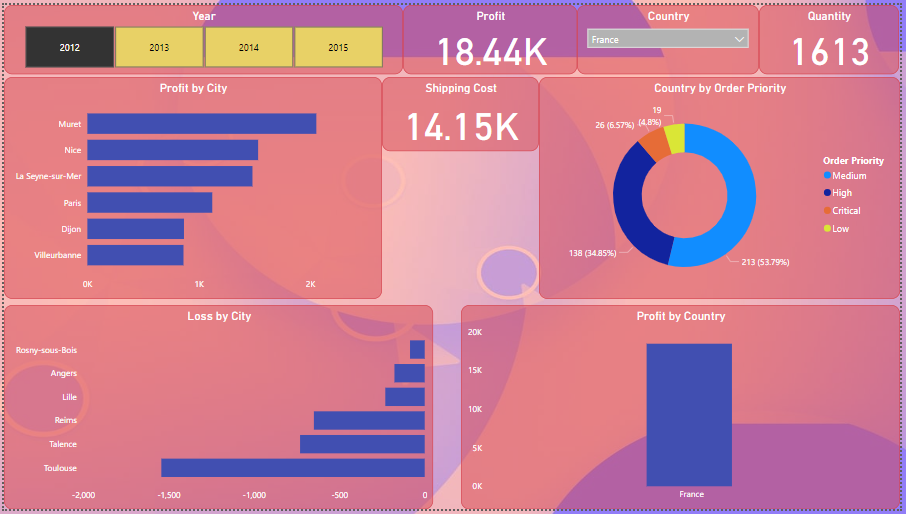

Layout of this report page (visuals, bound fields, positions):
{"tool":"powerbi","page":{"name":"Dashboard 2","canvas":[1280,720],"ordinal":1},"visuals":[{"type":"slicer","title":"Year","fields":{"Values":["Orders.Year"]},"box":[0,0,569.6,99.3],"z":0},{"type":"barChart","title":"Profit by City","fields":{"Category":["Orders.City"],"Y":["Sum(Orders.Profit)"]},"box":[0,103.2,539.5,316.6],"z":1000},{"type":"barChart","title":"Loss by City","fields":{"Category":["Orders.City"],"Y":["Sum(Orders.Profit)"]},"box":[0,427.9,613.4,292.1],"z":2000},{"type":"donutChart","title":"Country by Order Priority","fields":{"Category":["Orders.Order Priority"],"Y":["CountNonNull(Orders.Country)"]},"box":[763.9,103.2,516.1,316.6],"z":3000},{"type":"columnChart","title":"Profit by Country","fields":{"Category":["Orders.Country"],"Y":["Sum(Orders.Profit)"]},"box":[652.4,428.3,627.2,291.7],"z":4000},{"type":"card","title":"Profit","fields":{"Values":["Sum(Orders.Profit)"]},"box":[569.8,0,249.1,99.1],"z":5000},{"type":"slicer","title":"Country","fields":{"Values":["Orders.Country"]},"box":[818.9,0,260.1,99.1],"z":6000},{"type":"card","title":"Quantity","fields":{"Values":["Sum(Orders.Quantity)"]},"box":[1079.1,0,199.6,99.1],"z":7000},{"type":"card","title":"Shipping Cost","fields":{"Values":["Sum(Orders.Shipping Cost)"]},"box":[539.5,103.2,224.3,106],"z":8000}]}

Visuals, with their boxes in screenshot pixels (x1, y1, x2, y2), scaled from the page's 1280x720 canvas onto the 906x514 screenshot:
"Year" slicer: <region>0, 0, 403, 71</region>
"Profit by City" barChart: <region>0, 74, 382, 300</region>
"Loss by City" barChart: <region>0, 305, 434, 513</region>
"Country by Order Priority" donutChart: <region>541, 74, 905, 300</region>
"Profit by Country" columnChart: <region>462, 306, 905, 513</region>
"Profit" card: <region>403, 0, 580, 71</region>
"Country" slicer: <region>580, 0, 764, 71</region>
"Quantity" card: <region>764, 0, 905, 71</region>
"Shipping Cost" card: <region>382, 74, 541, 149</region>
